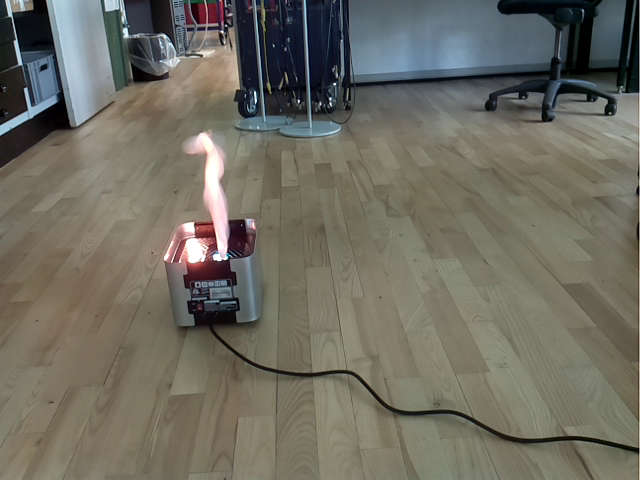fire: (182, 130, 230, 259)
